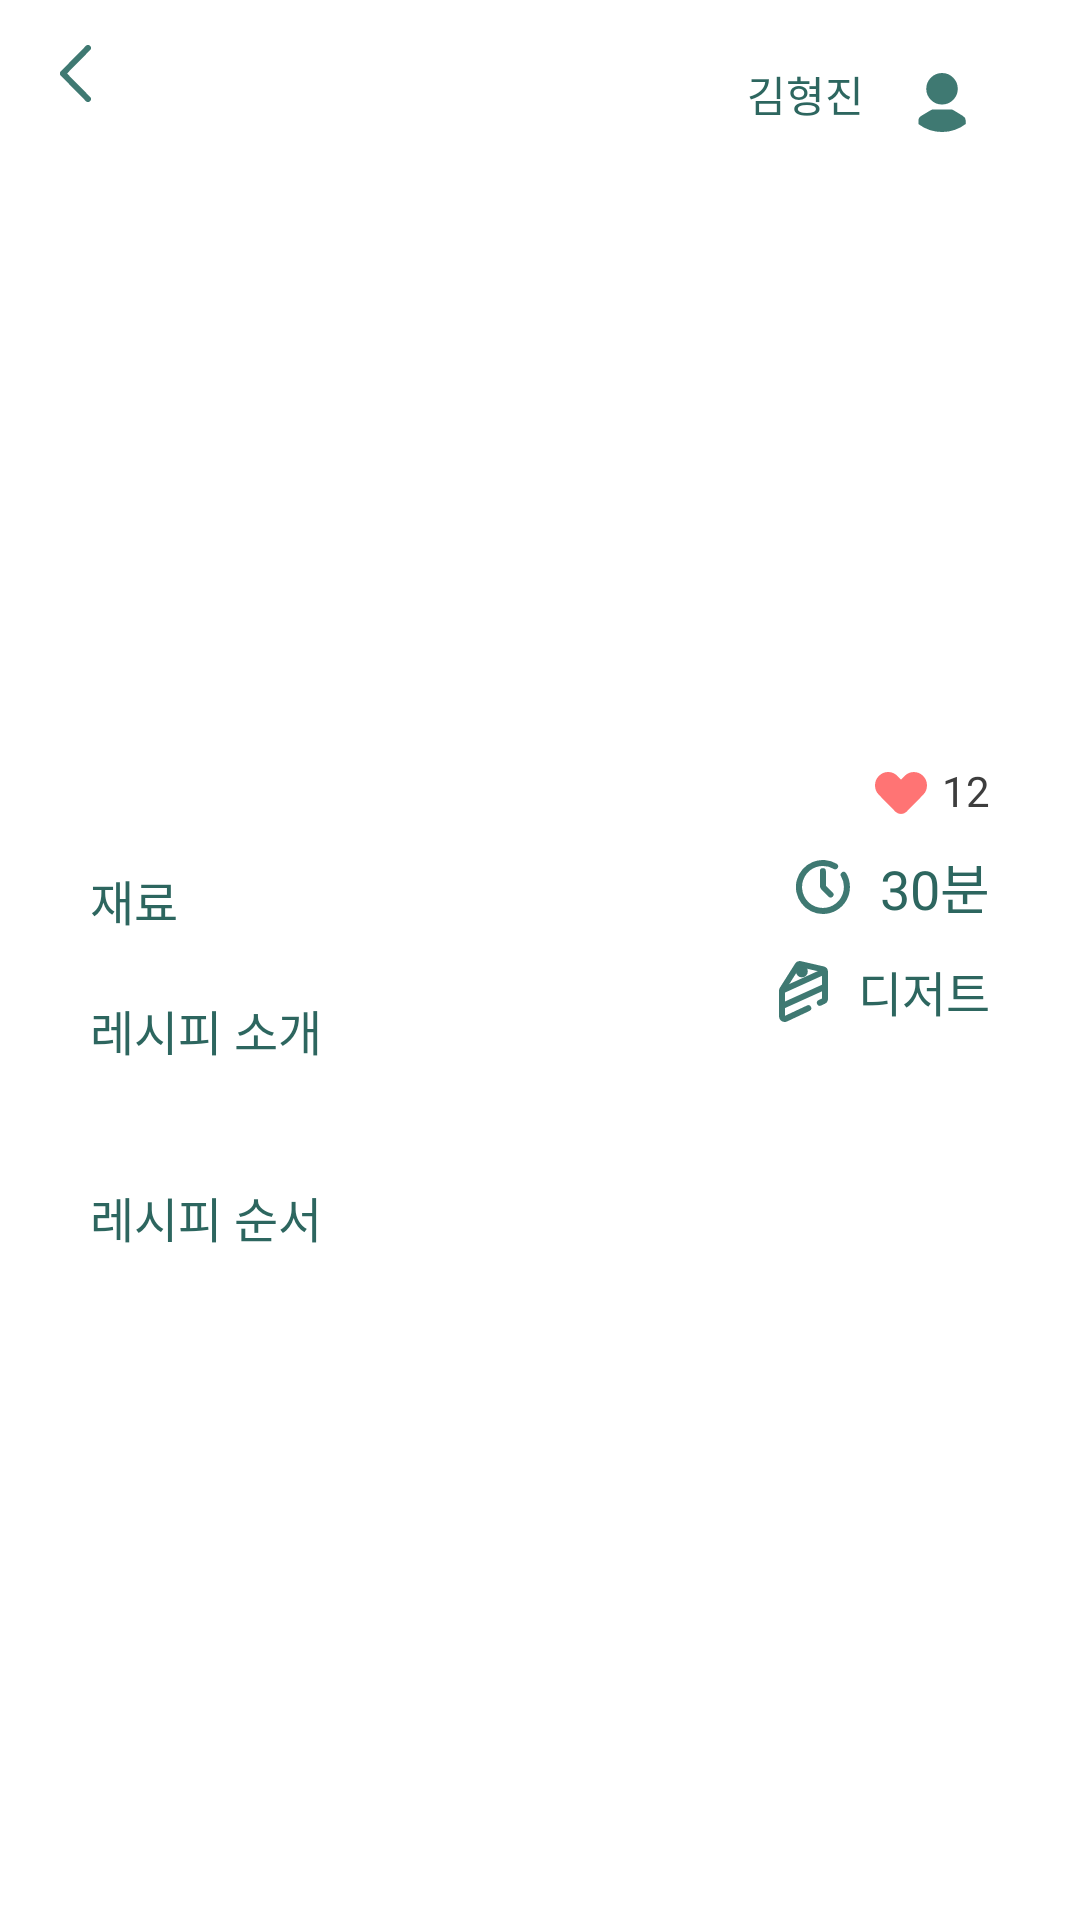

Point at icon controls on the screen. Image size 1080x1920, points as (x,y).
back: (75,73)
cake: (803,991)
clock: (823,887)
heart: (901,793)
profile: (942,102)
